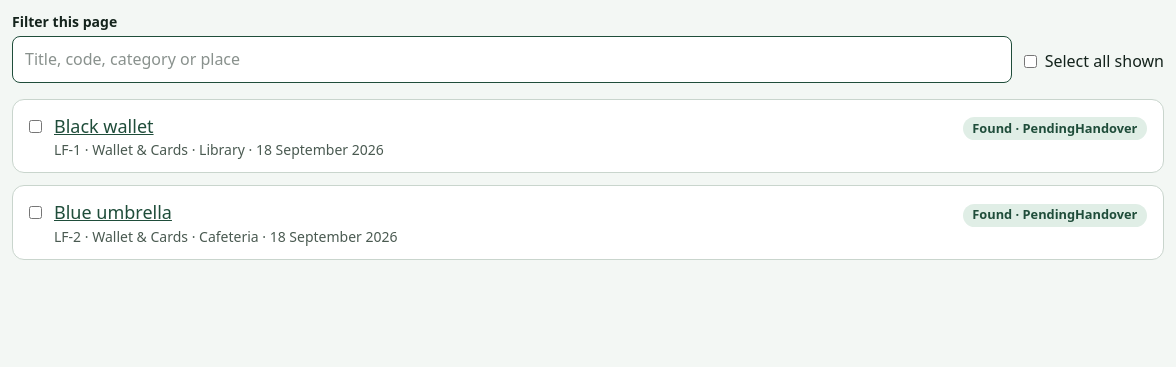
Test: QueueList › applies the bulk action to every ticked report, then refreshes
The image size is (1176, 367).
Click the checkbox labelled "Select all shown" at x=1030, y=61, box [1024, 55, 1037, 68]
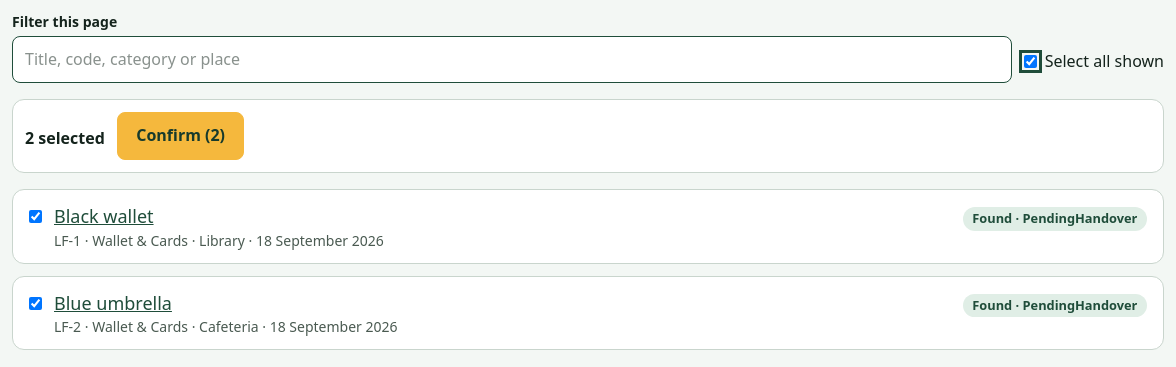
Click the button "Confirm (2)" at x=181, y=136, box [117, 112, 244, 160]
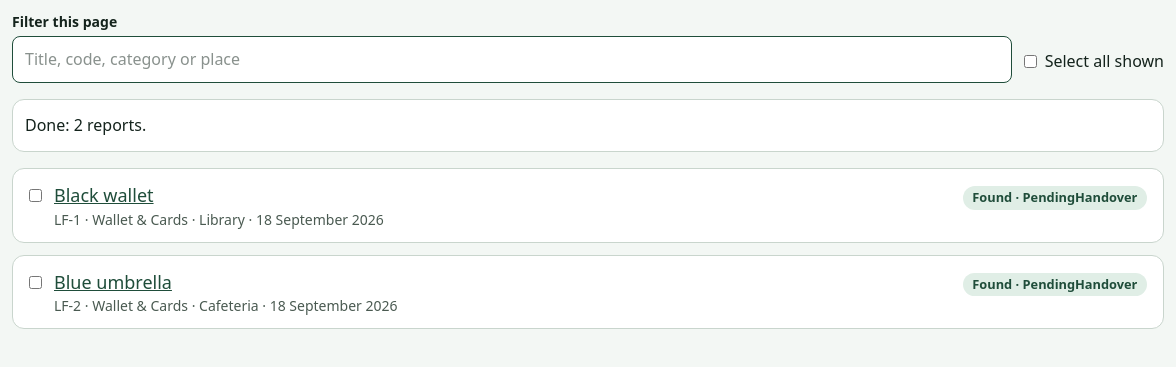
Expected: the message reads "Done: 2 reports.", [25, 114, 146, 136]
